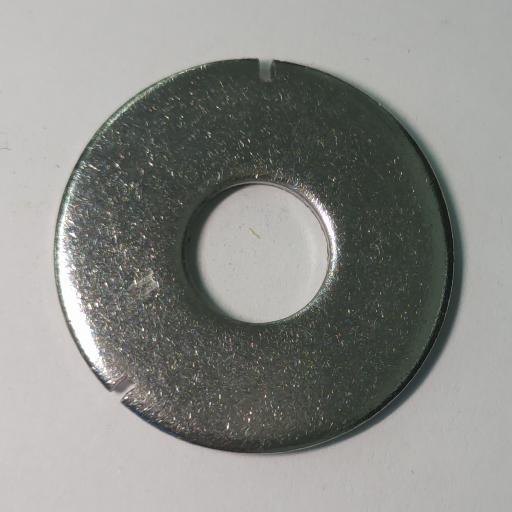burr: (108, 373, 139, 404), (257, 57, 277, 84)
